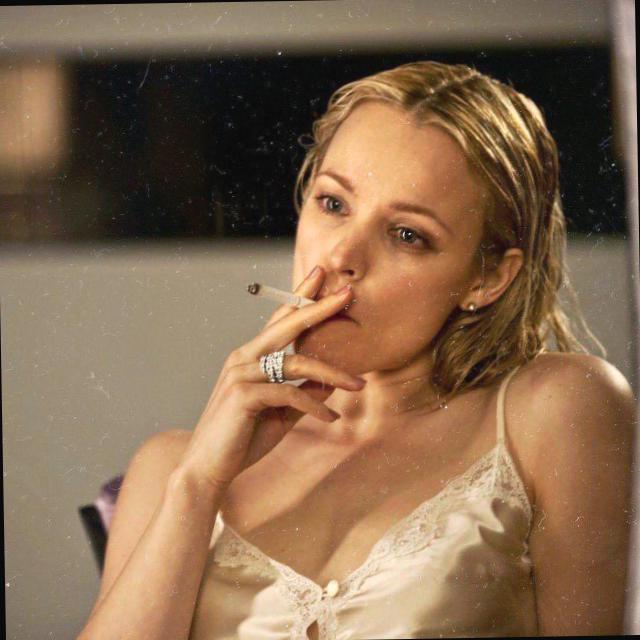cigarette: (230, 262, 334, 323)
